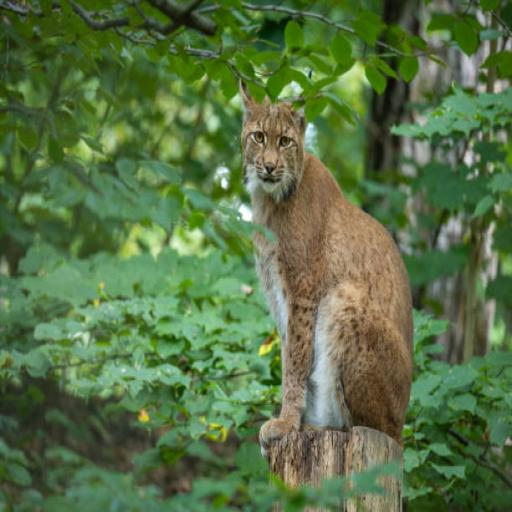lynx: (241, 82, 412, 453)
